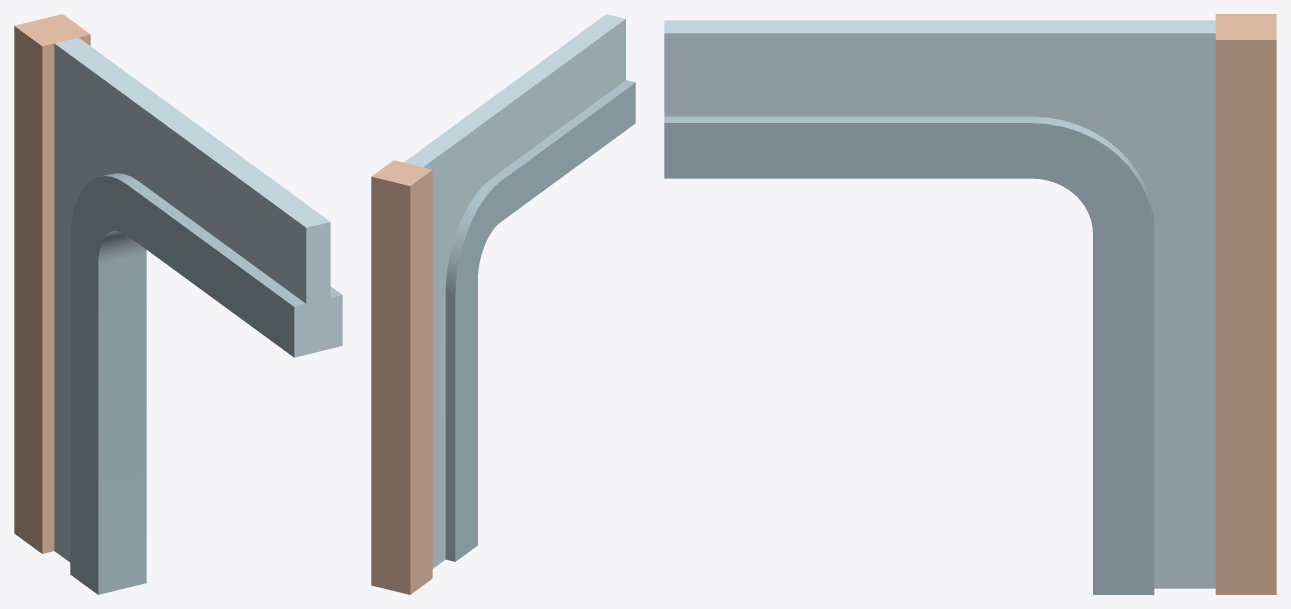
The picture shows the model from 3 angles, left to right: view 1: azimuth 30°, elevation 25°; view 2: azimuth 150°, elevation 25°; view 3: azimuth 270°, elevation 25°; orthographic projection. The views are drawn at different scales.
Visible parts, largest first — view 1: wallDoorwaySquareWideCurved; view 2: wallDoorwaySquareWideCurved; view 3: wallDoorwaySquareWideCurved.
Boxes of the visible parts, x1,y1,x2,y2 form: wallDoorwaySquareWideCurved: [14, 14, 342, 594]; wallDoorwaySquareWideCurved: [371, 14, 635, 594]; wallDoorwaySquareWideCurved: [664, 14, 1276, 594].
Bounding box in the file's own units: 0.1 × 1 × 1.
